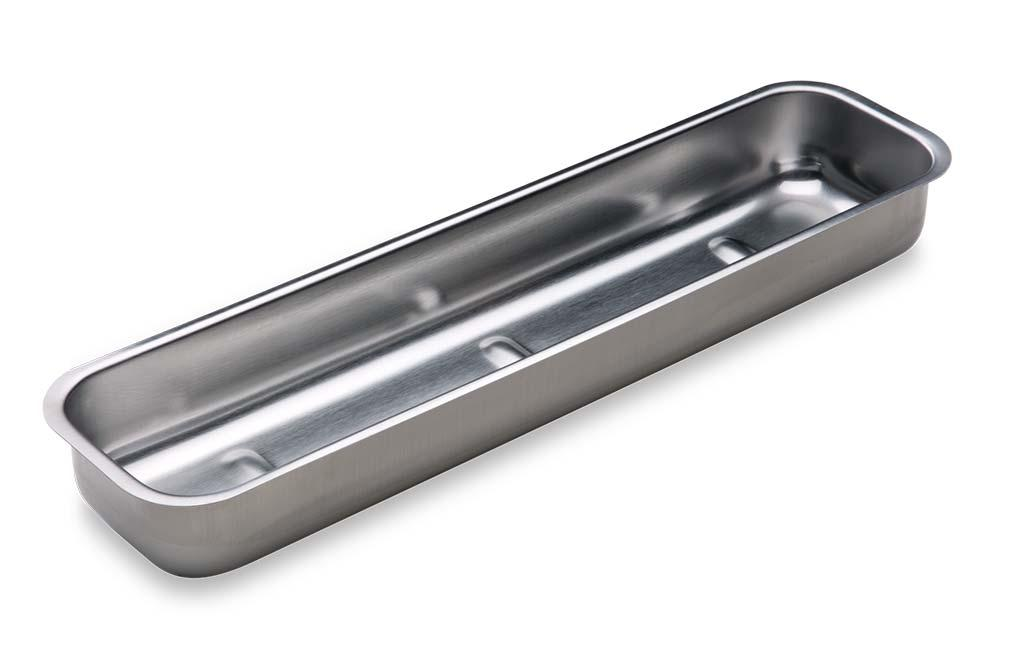Catheter Tray: (39, 67, 958, 582)
